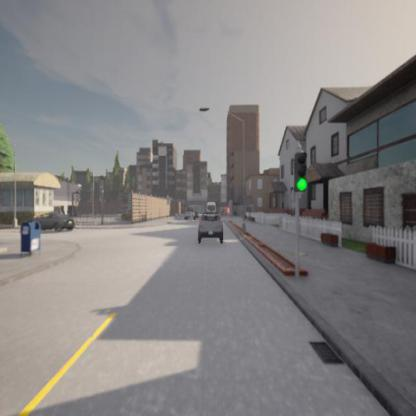traffic_light_green: (293, 152, 309, 190)
vehicle: (31, 212, 76, 233), (196, 213, 224, 240)
